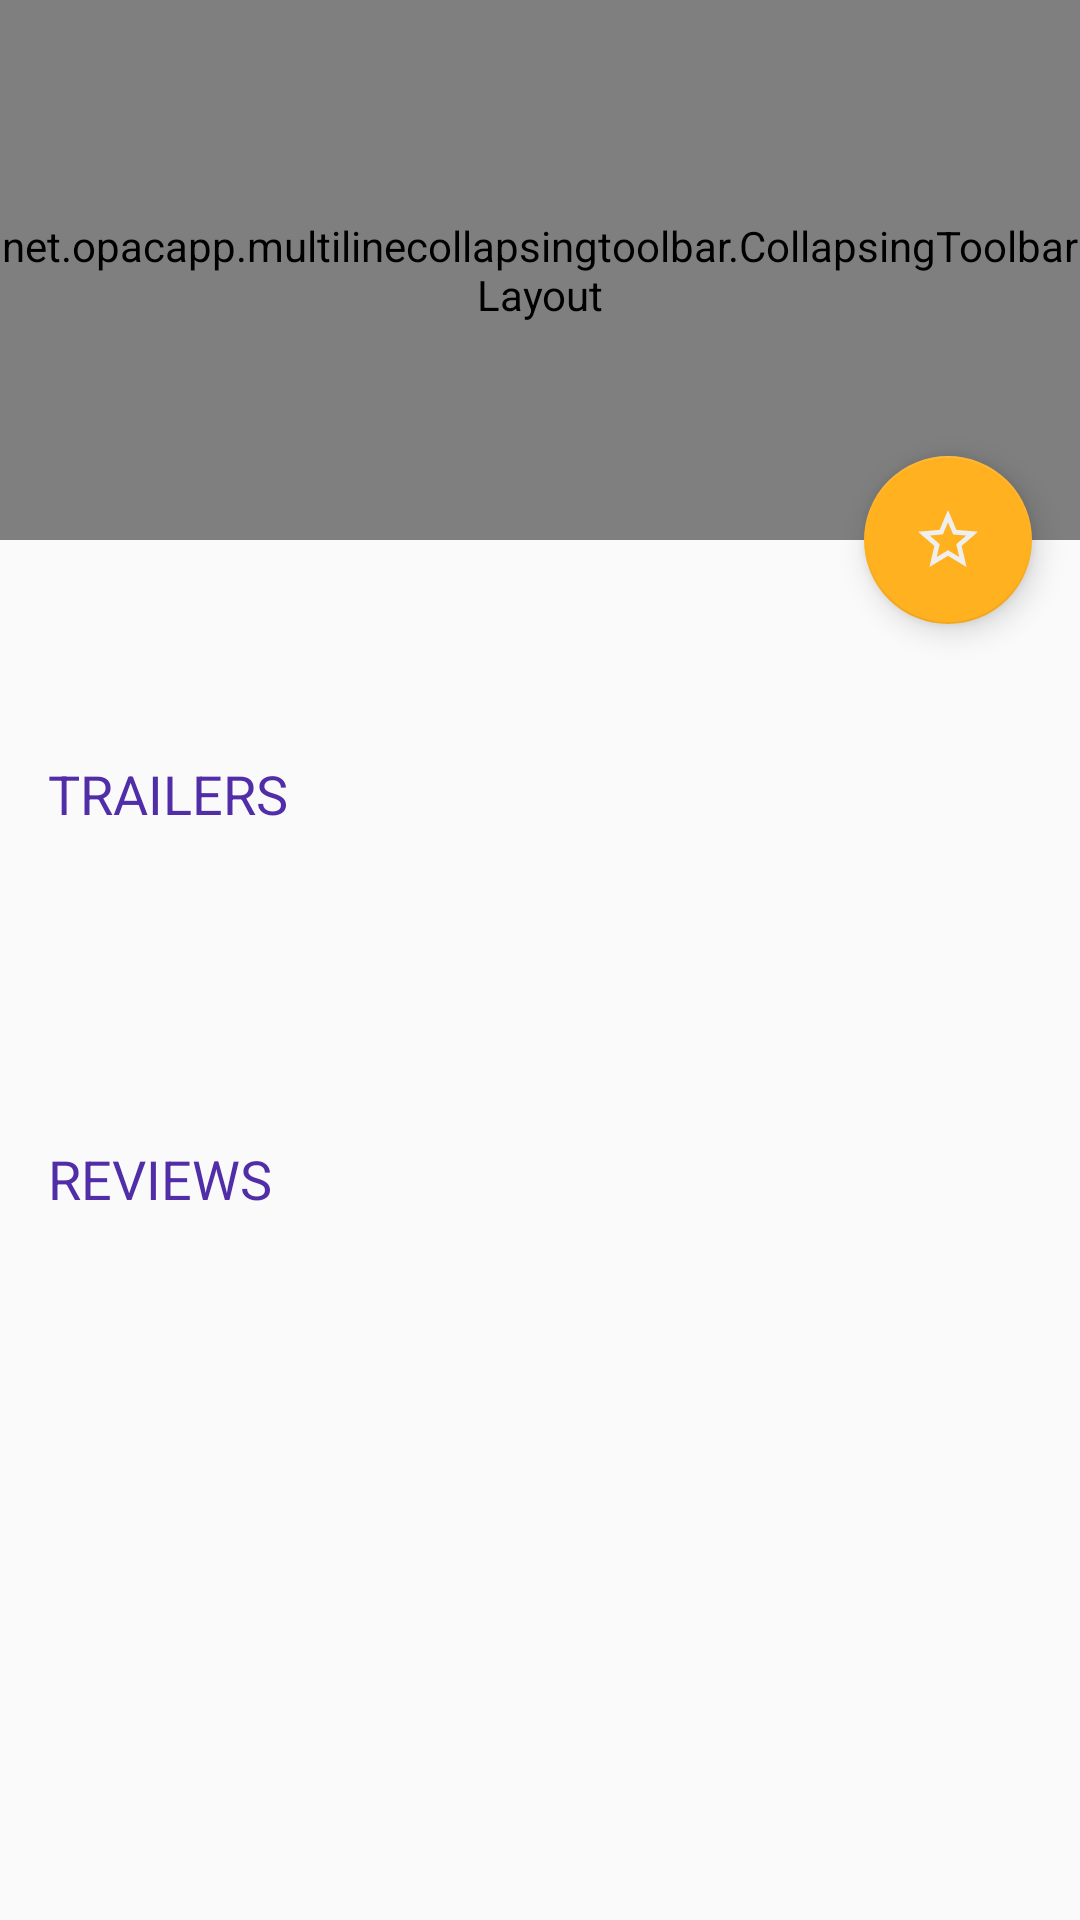

Where to tap for icons on this 1080x1920 app screen, as point (x, y):
star off: point (948, 540)
